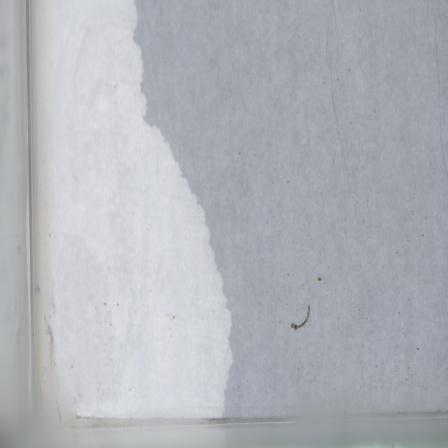Jentik-Nyamuk: (288, 303, 313, 331)
